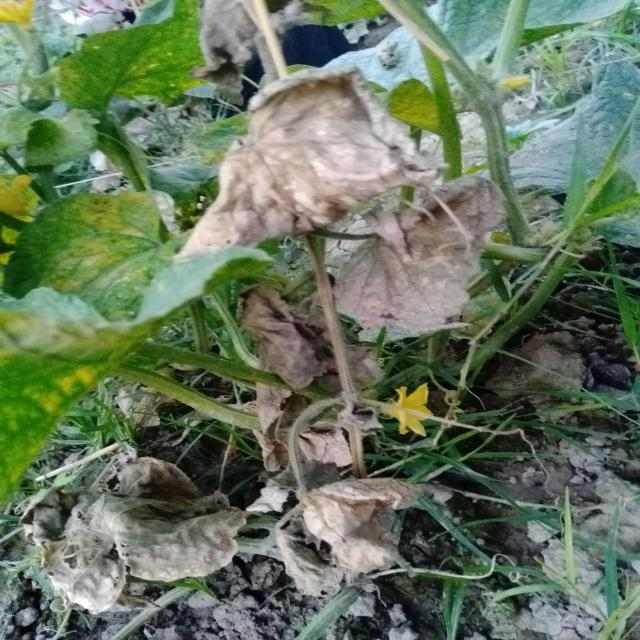cucumber_bacterial: (141, 44, 391, 320), (317, 166, 497, 340), (69, 468, 235, 602), (282, 473, 441, 593), (506, 63, 640, 198), (237, 305, 329, 388), (189, 8, 304, 73)
